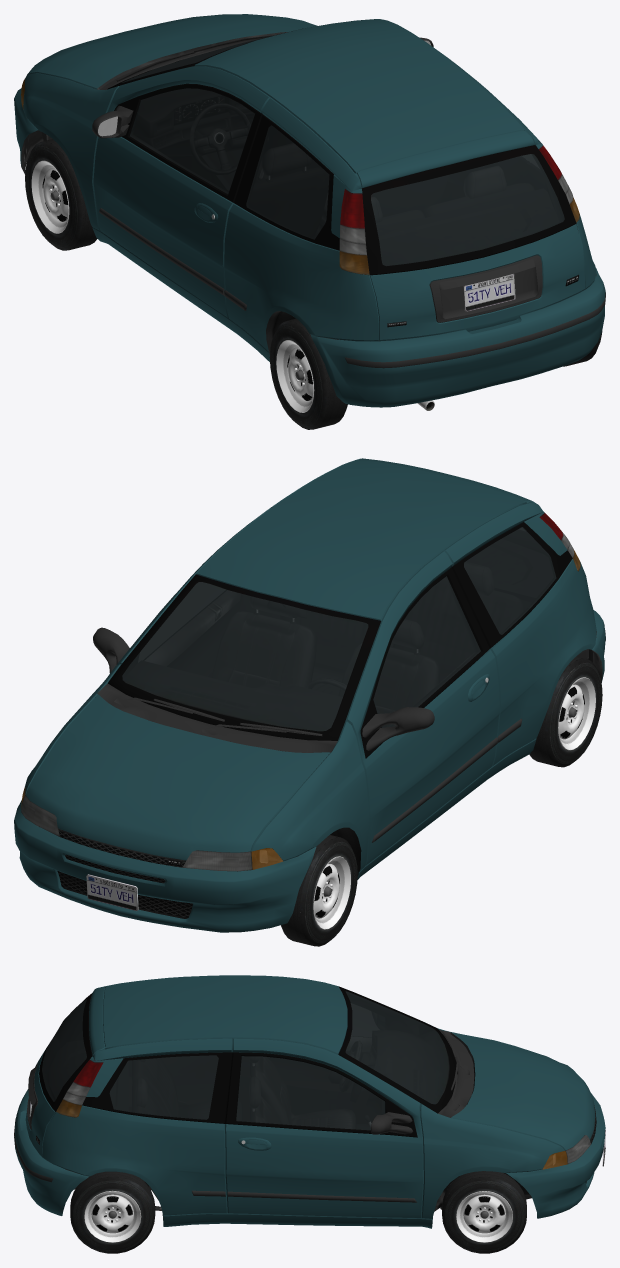
The model's file is milano.glb.
3 views of the same model, one above another, from view 1: azimuth 30°, elevation 25°; view 2: azimuth 150°, elevation 25°; view 3: azimuth 270°, elevation 25° (orthographic). The views are drawn at different scales.
Visible parts, largest first — view 1: body, wheel_RL, wheel_FL, steer, lamp_tail_L, lamp_reverse_L, lamp_signal_L; view 2: body, wheel_FL, wheel_RL, lamp_head_L, lamp_head_R; view 3: body, wheel_FR, wheel_RR, lamp_signal_R, lamp_tail_R, lamp_reverse_R.
Boxes of the visible parts, x1,y1,x2,y2 form: body: (14, 14, 605, 410); wheel_RL: (269, 318, 347, 429); wheel_FL: (25, 139, 97, 250); steer: (190, 103, 250, 174); lamp_tail_L: (340, 189, 364, 228); lamp_reverse_L: (339, 225, 366, 255); lamp_signal_L: (21, 78, 369, 275); body: (14, 458, 605, 932); wheel_FL: (281, 835, 357, 946); wheel_RL: (529, 656, 602, 767); lamp_head_L: (182, 850, 252, 871); lamp_head_R: (21, 795, 59, 836); body: (14, 975, 605, 1228); wheel_FR: (442, 1171, 526, 1253); wheel_RR: (70, 1171, 155, 1253); lamp_signal_R: (56, 1099, 567, 1169); lamp_tail_R: (73, 1060, 103, 1087); lamp_reverse_R: (63, 1082, 90, 1105).
Bounding box in the file's own units: 1.93 × 1.44 × 3.86.
Materials: 15 (14 with a texture image).
